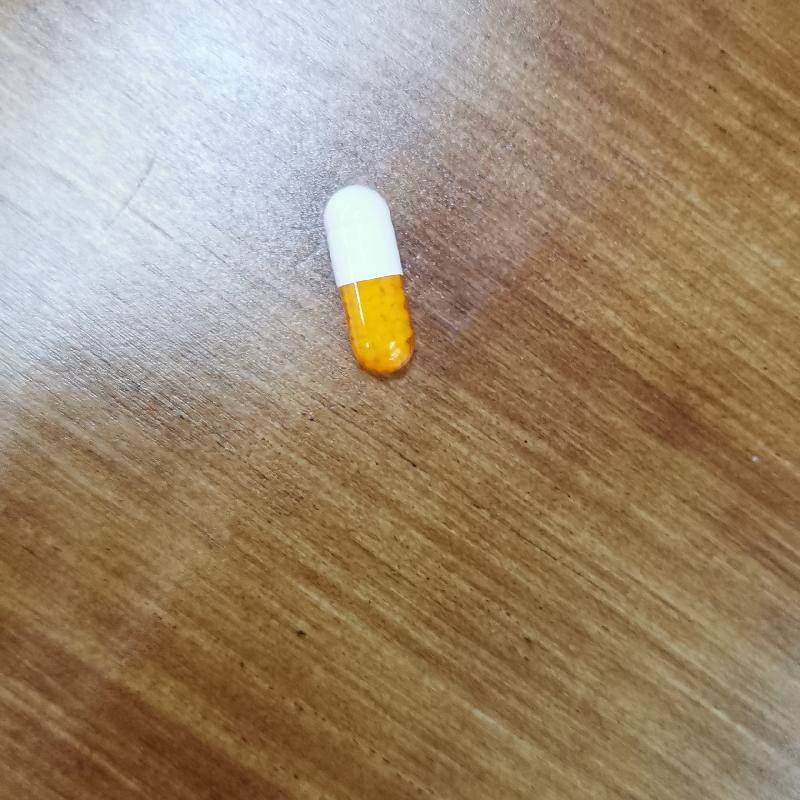pills: (303, 180, 436, 396)
